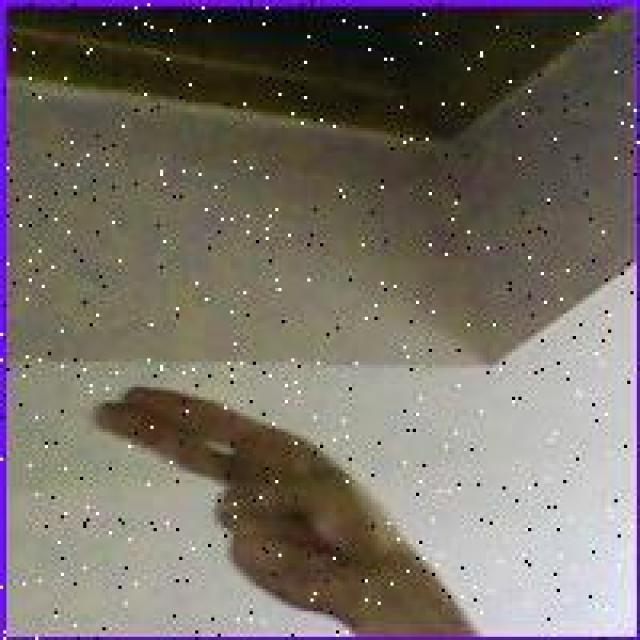H: (93, 380, 397, 622)
